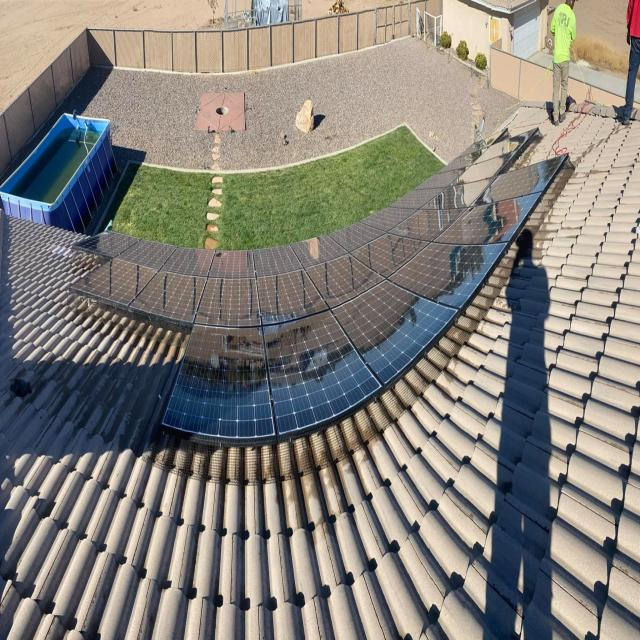clean-solar-panel: (74, 132, 562, 441)
